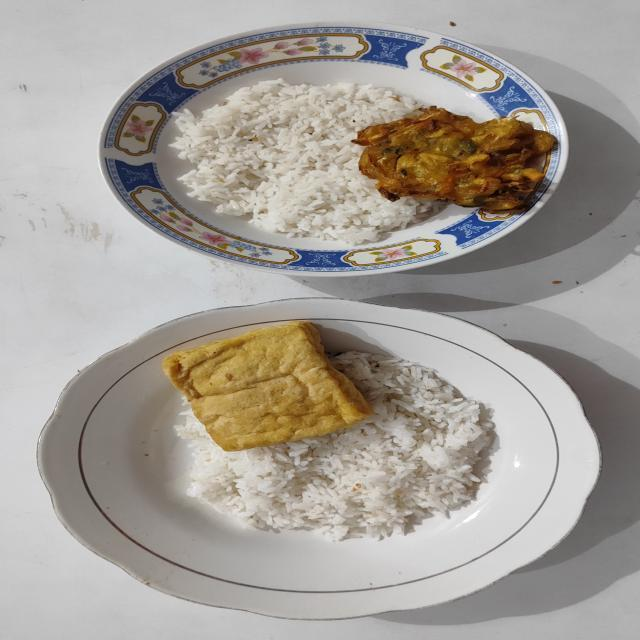nasi_putih: (175, 351, 498, 541), (169, 78, 444, 246)
tahu_goreng: (162, 321, 372, 451)
